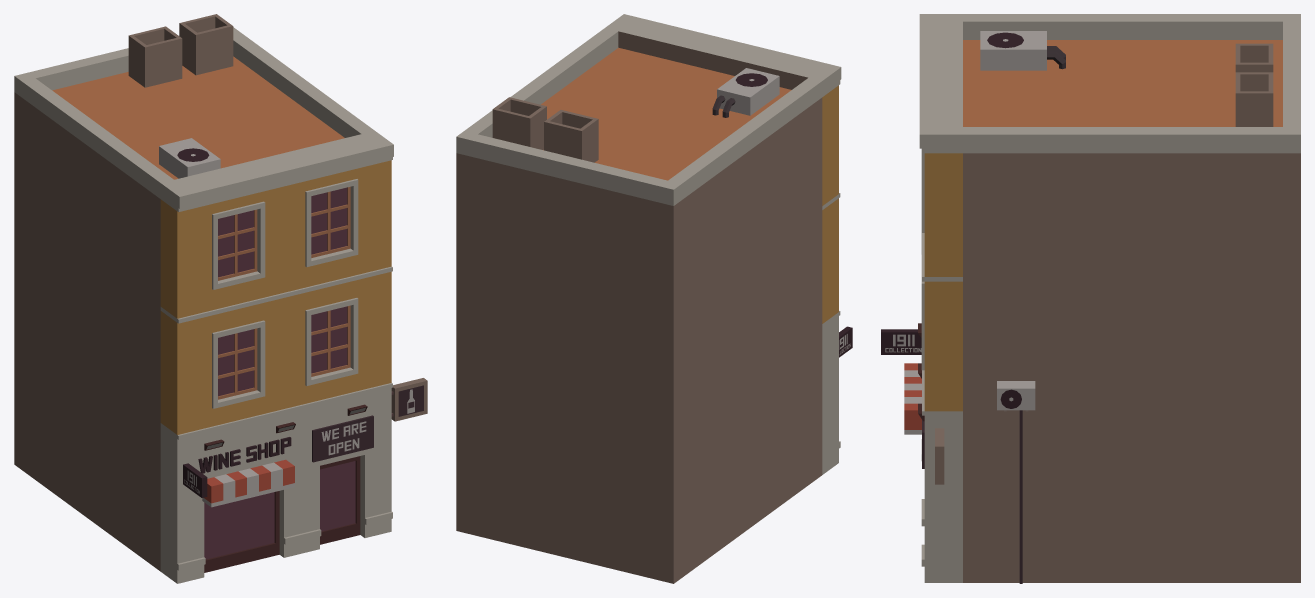
Rendered from Building_17.fbx.
3 views of the same model, side by side, from view 1: azimuth 30°, elevation 25°; view 2: azimuth 150°, elevation 25°; view 3: azimuth 270°, elevation 25° (orthographic). The views are drawn at different scales.
Parts seen in each view (by area): view 1: Building_17, Building_17LP; view 2: Building_17; view 3: Building_17.
Part boxes in pixels (x1,y1,x2,y2): Building_17: [14, 14, 427, 583]; Building_17LP: [184, 187, 414, 559]; Building_17: [456, 14, 852, 583]; Building_17: [881, 14, 1300, 583].
Bounding box in the file's own units: 8.27 × 12.81 × 10.24.
